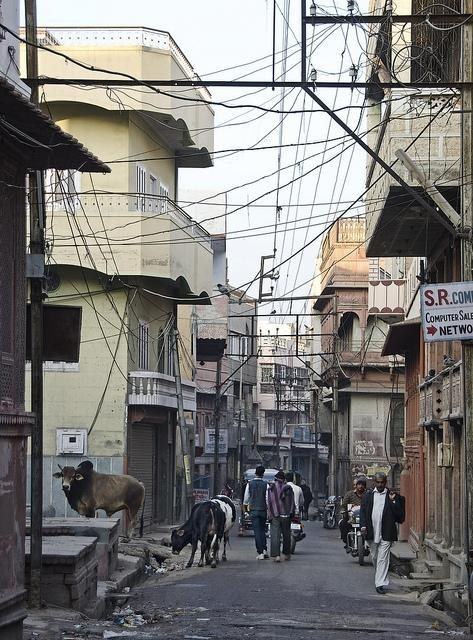car: (241, 468, 279, 480)
motorcycle: (342, 508, 370, 568), (322, 496, 345, 528), (290, 514, 307, 554), (220, 483, 233, 498)
